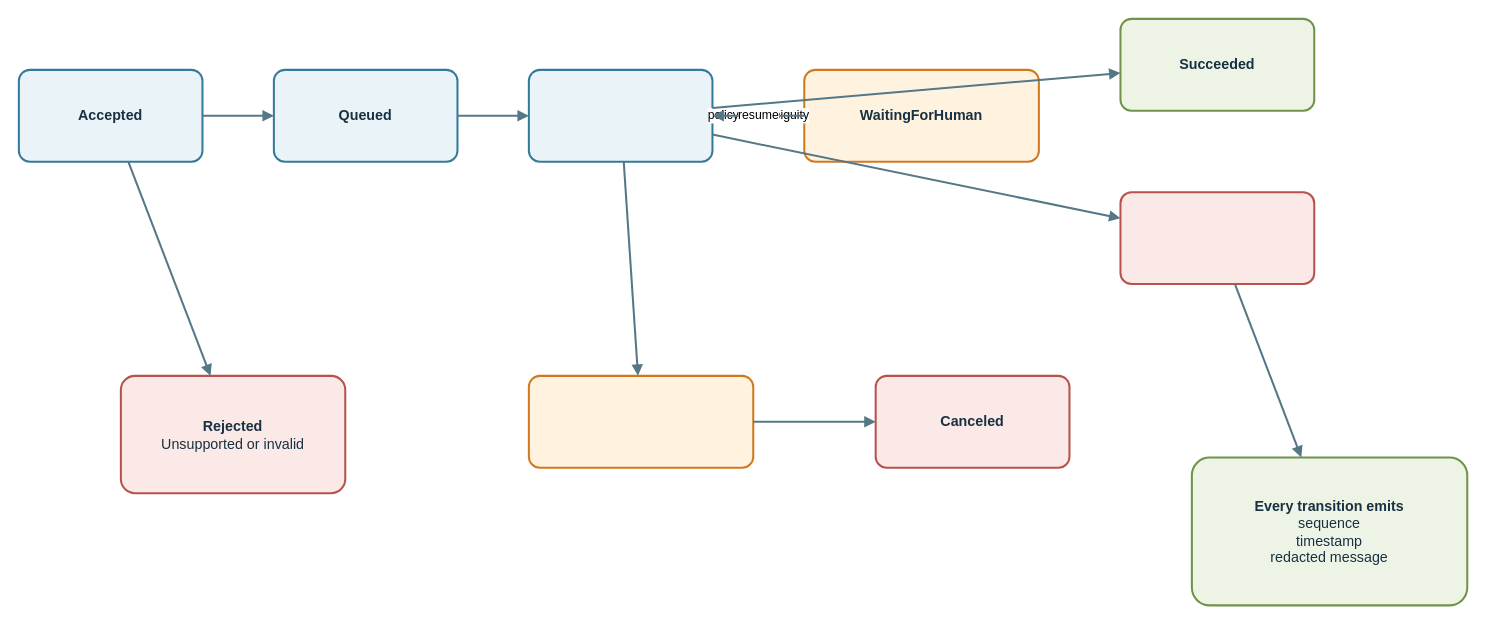
Image size: 1485x623. Some labels were removed from this diagram. Here are the shapes that lost their labels. From the top down, the centre of each, then its label:
At [620,115]: "Running".
At [1217,238]: "Failed".
At [640,421]: "CancelRequested".
